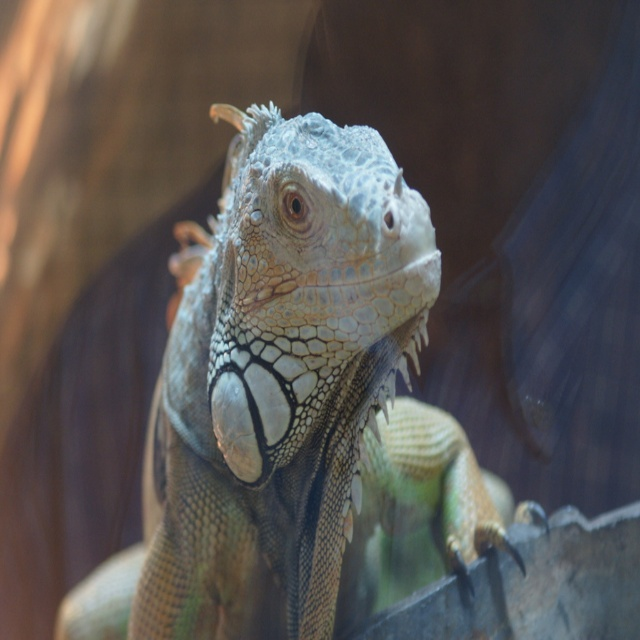Lizard: (108, 79, 508, 640)
